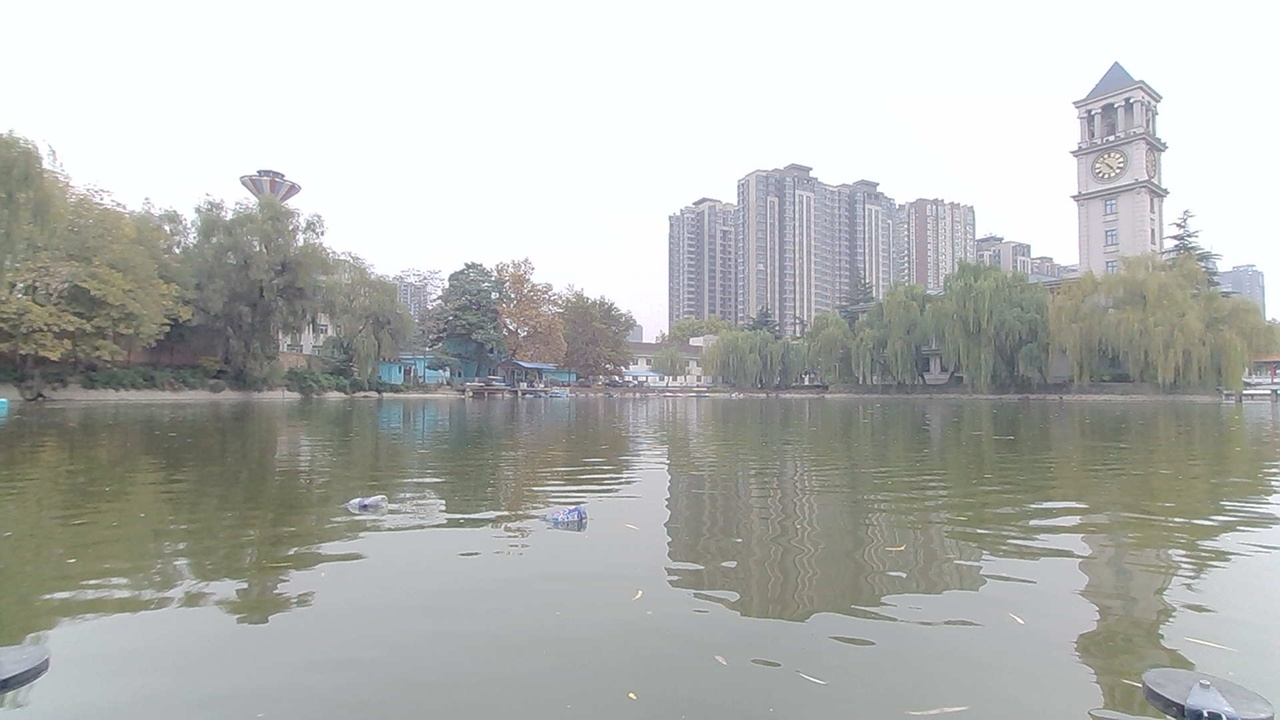bottle: (353, 492, 392, 518), (552, 513, 585, 530)
